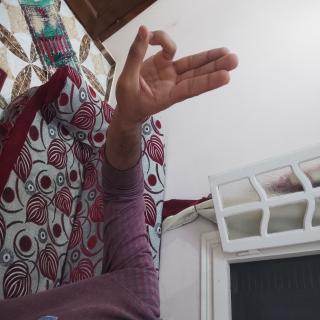THA: (15, 98, 100, 286)
